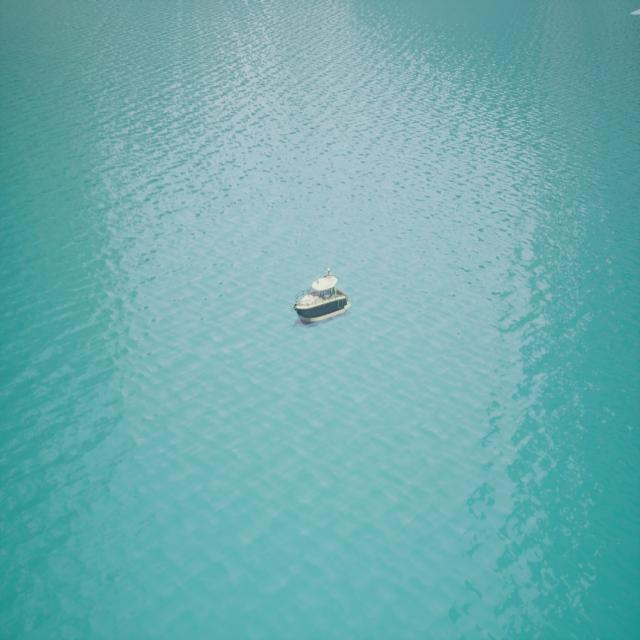ship: (293, 267, 349, 325)
